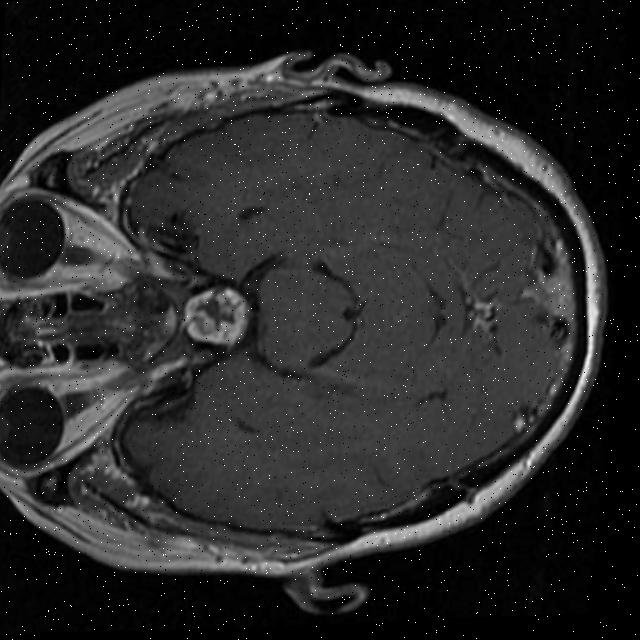Pituitary: (179, 282, 252, 350)
